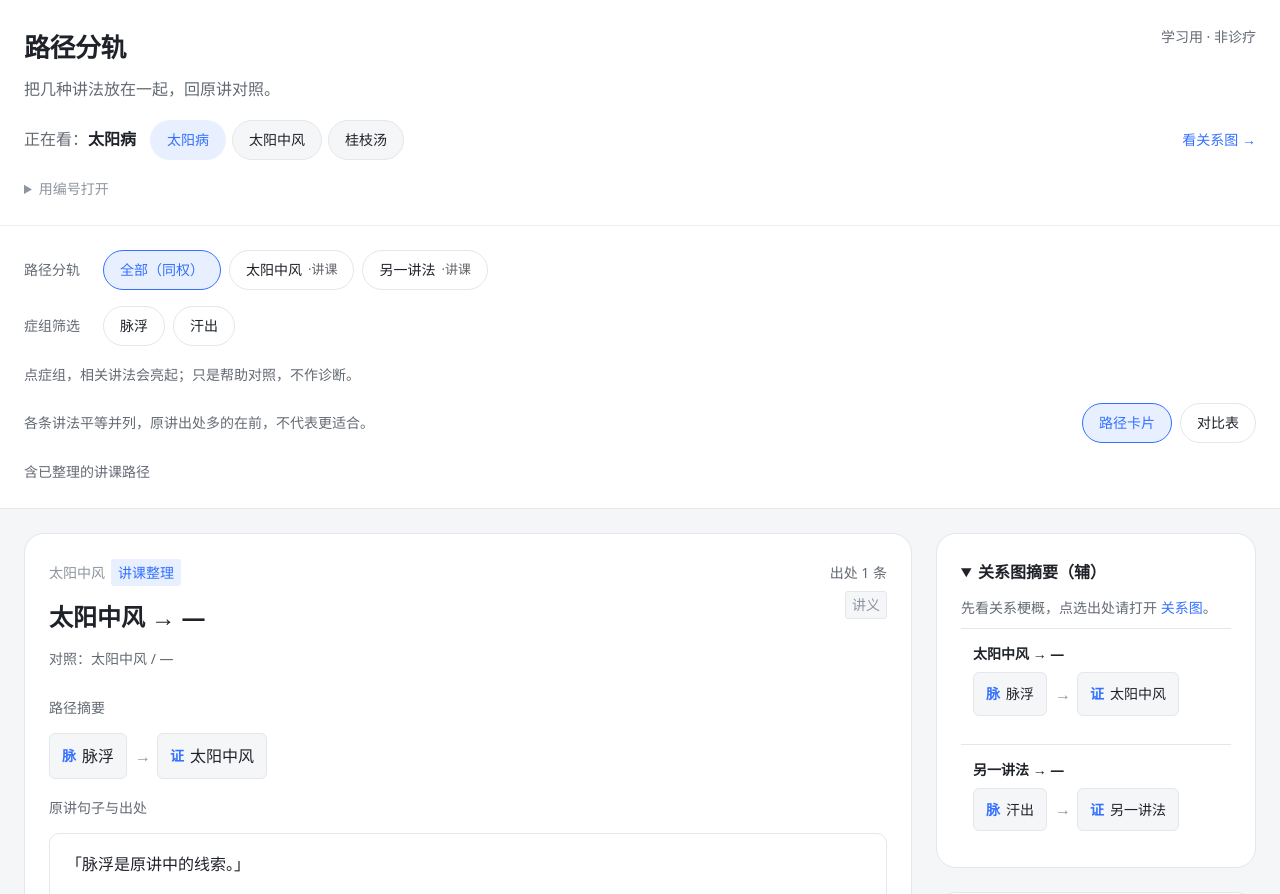
Test: compare is a semantic reading table with quotes and station links, and returns to cards
The image size is (1280, 894).
Click the button "对比表": x=1218, y=423 [1180,403,1256,443]
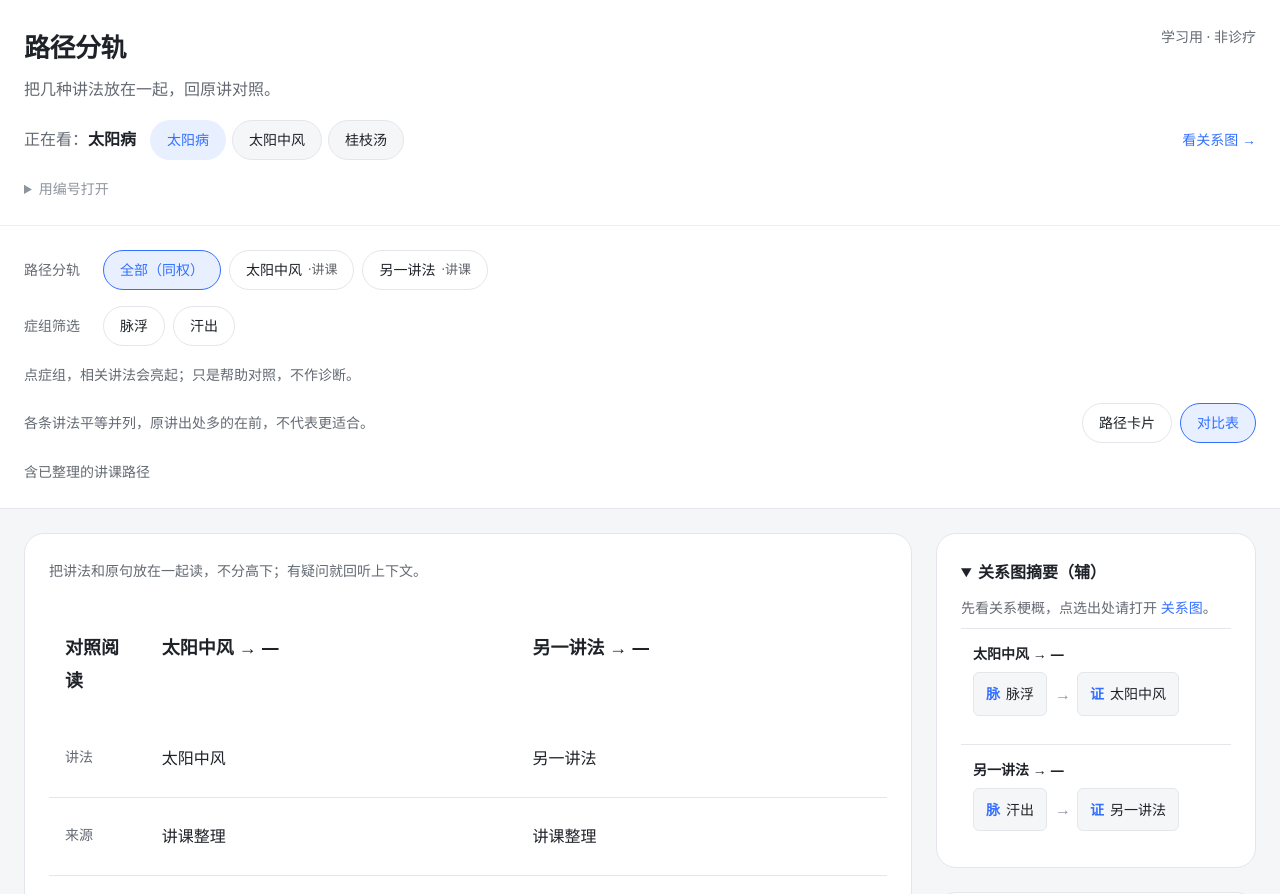
Click the button "路径卡片": x=1127, y=423 [1082,403,1172,443]
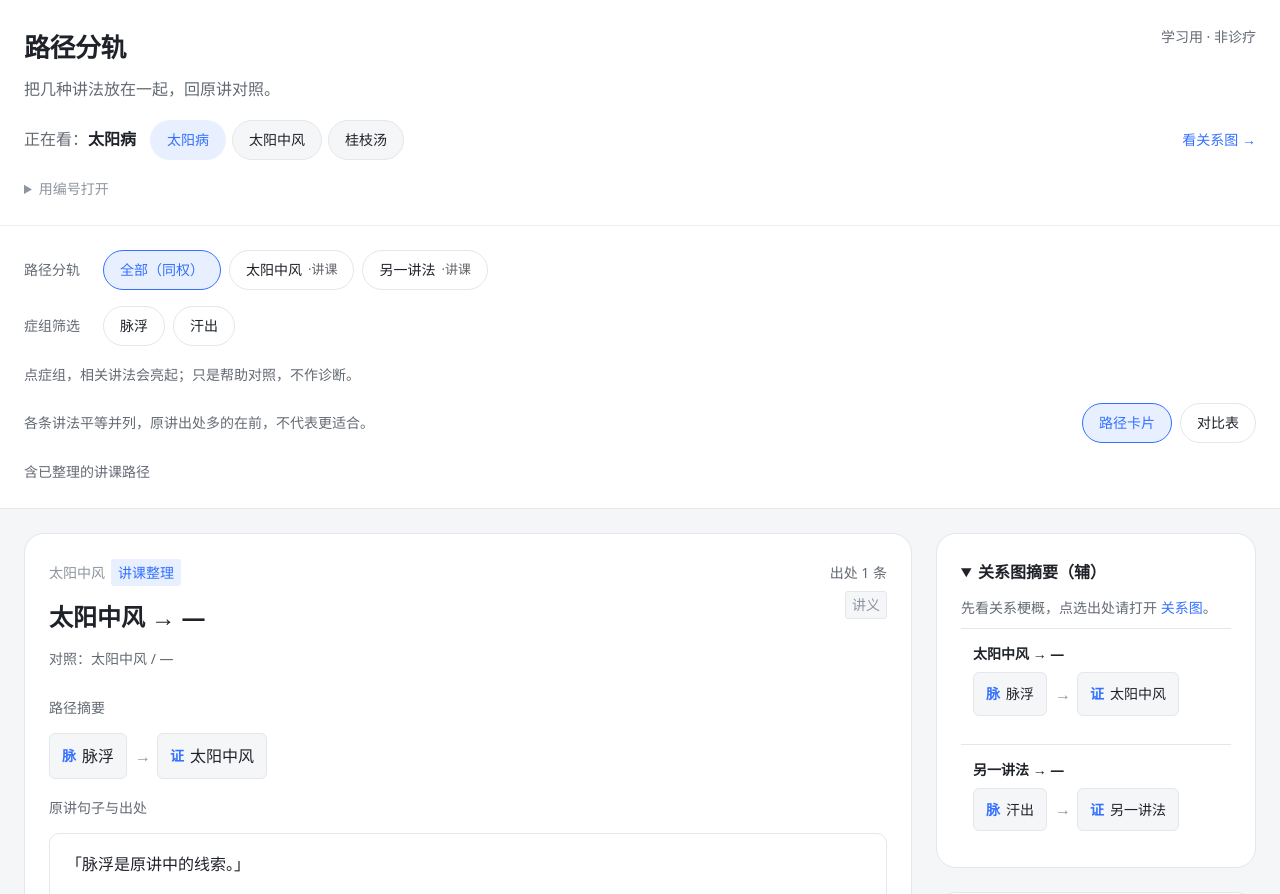
Expected: the number of elements with class "hyp-card" is 2
